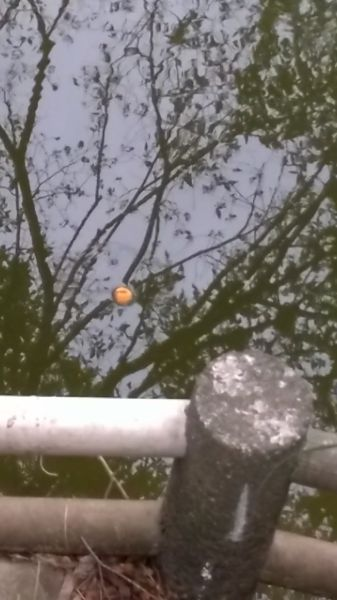eggs: (110, 283, 139, 306)
